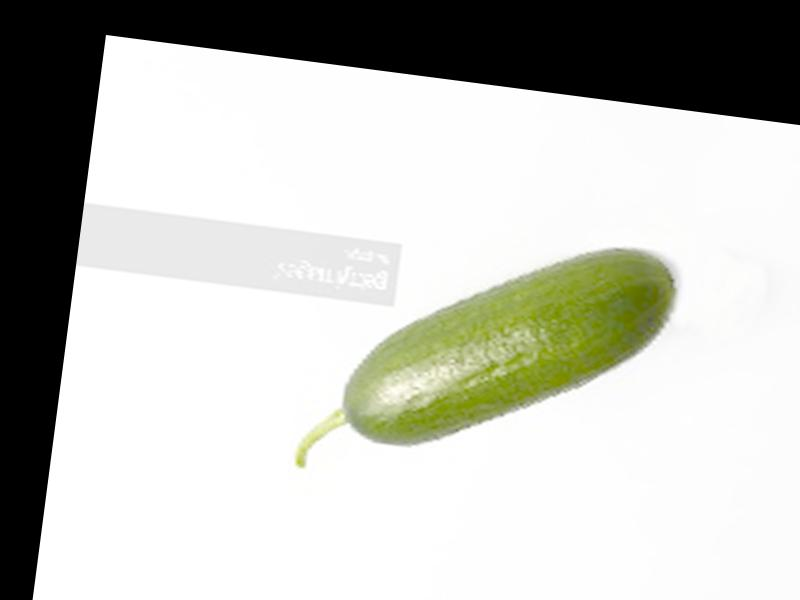Cucumber: (287, 206, 677, 509)
